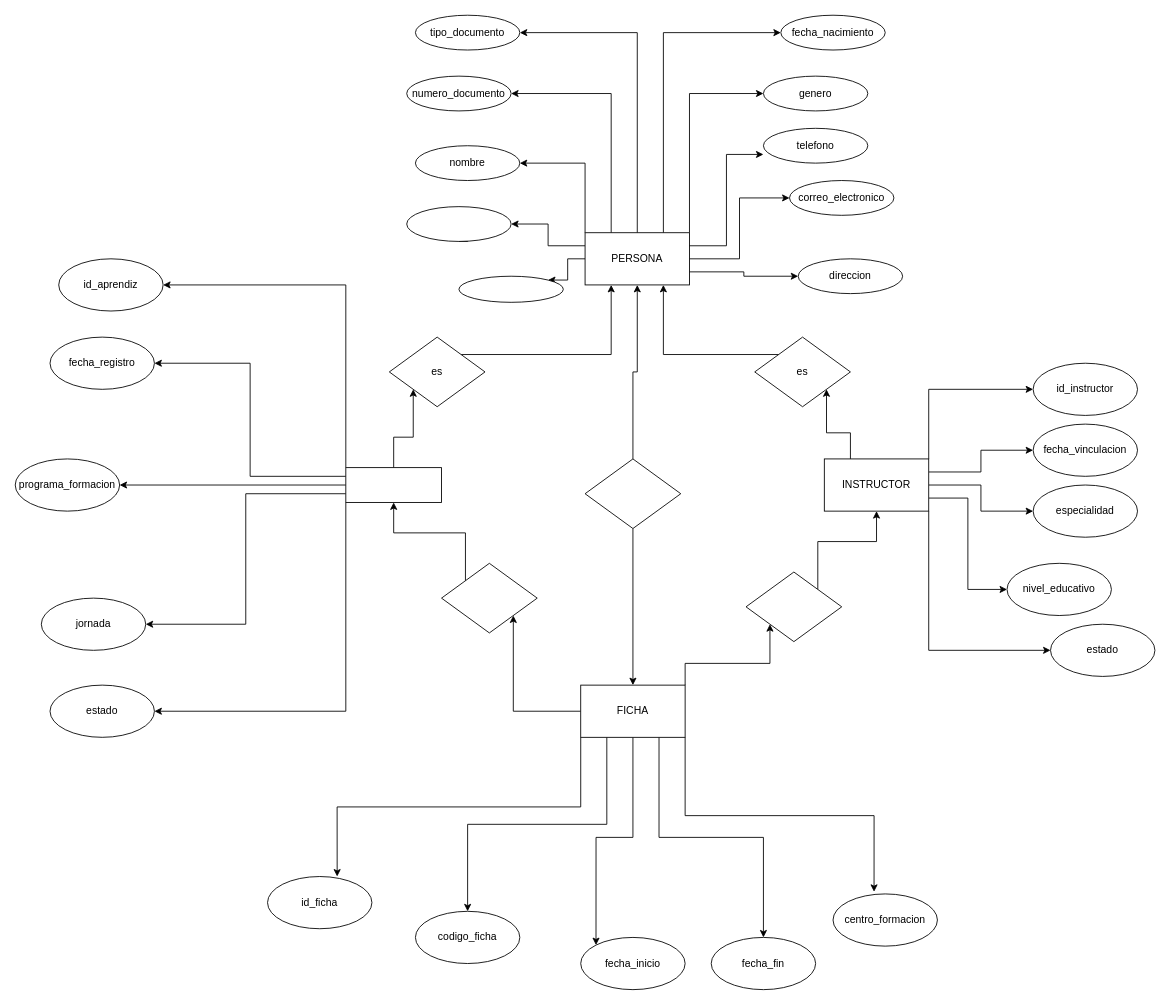
Some shapes in this 1170 by 1005 pixel diagram are drawn without their labels. The shapes that lost their labels are listed below. From the top down, each one's centre as x and y in pixels, then its label:
At point (458, 223): "apellido".
At point (510, 288): "id_persona".
At point (393, 484): "APRENDIZ".
At point (632, 493): "PERTENECE".
At point (489, 597): "cursa".
At point (793, 606): "imparte".
